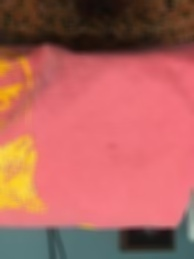oil: (102, 141, 124, 162)
